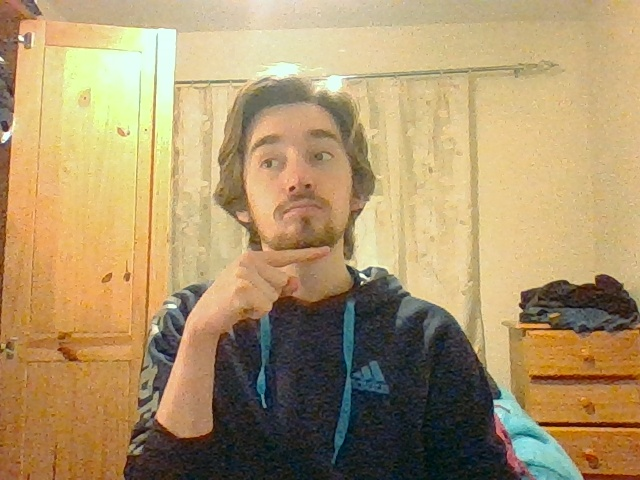son: (239, 246, 331, 315)
